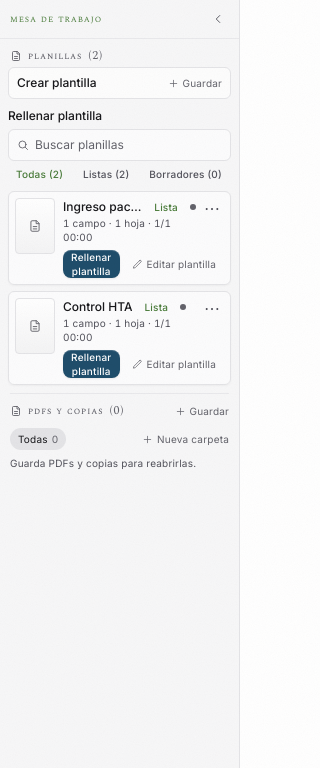
<WorkspacePanel /> · planillas › permite buscar planillas por nombre y deja la biblioteca escaneable
Check: the text "Ingreso paciente" is shown, box [63,198,142,216]
Check: the text "Control HTA" is shown, box [63,298,132,316]
In the search field labelled "Buscar planillas": (128, 145) [35,136,222,154], type "hta"
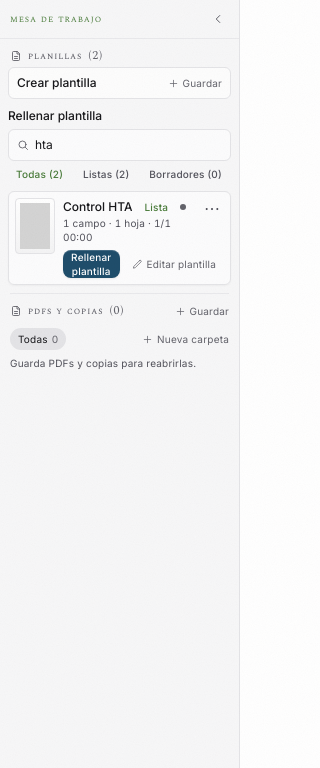
Check: the text "Control HTA" is shown, box [63,198,132,216]
Check: the text "Ingreso paciente" is gone
